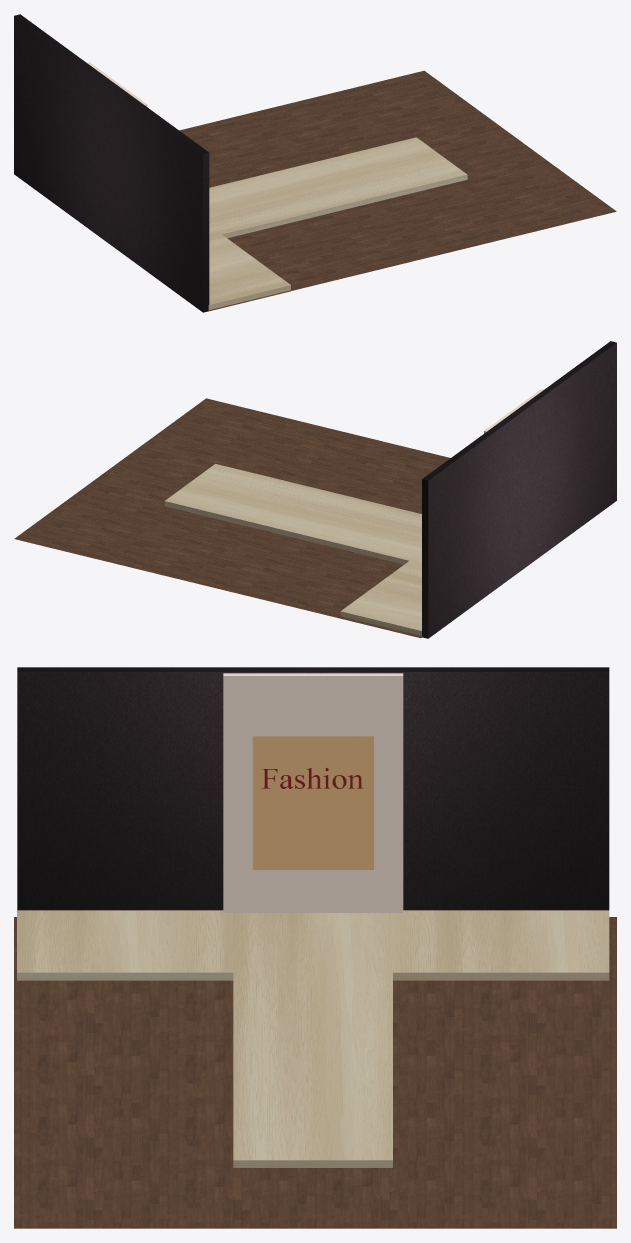
Rendered from Ramp.fbx.
3 renders of one model, top to bottom at view 1: azimuth 30°, elevation 25°; view 2: azimuth 150°, elevation 25°; view 3: azimuth 270°, elevation 25°, orthographic. The views are drawn at different scales.
Visible parts, largest first — view 1: Floor, Bg1, Ramp_Floor; view 2: Floor, Bg1, Ramp_Floor; view 3: Floor, Bg1, Ramp_Floor, Bg.
Part boxes in pixels (<box>): Floor: <box>179,70,616,310</box>; Bg1: <box>14,14,209,312</box>; Ramp_Floor: <box>208,137,467,311</box>; Floor: <box>14,398,450,638</box>; Bg1: <box>422,341,616,638</box>; Ramp_Floor: <box>164,464,421,635</box>; Floor: <box>14,917,616,1228</box>; Bg1: <box>17,667,609,910</box>; Ramp_Floor: <box>17,910,609,1167</box>; Bg: <box>223,673,403,912</box>.
Size of the model in its own units: 1161 by 426 by 938.
